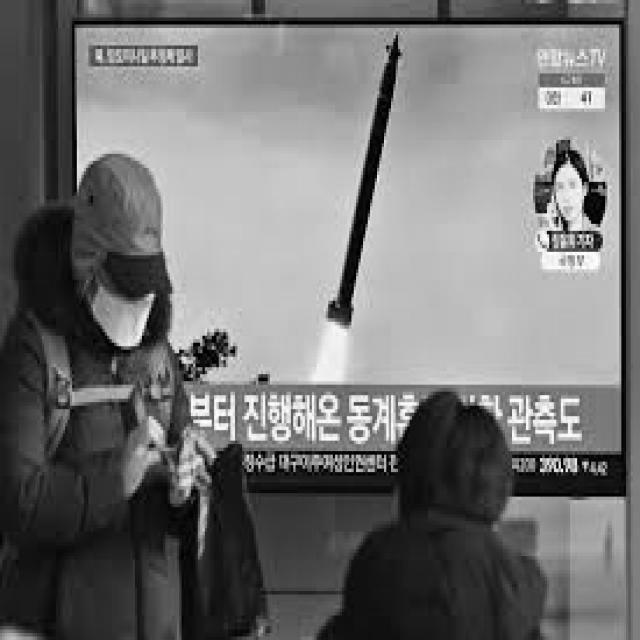missile: (324, 25, 405, 373)
